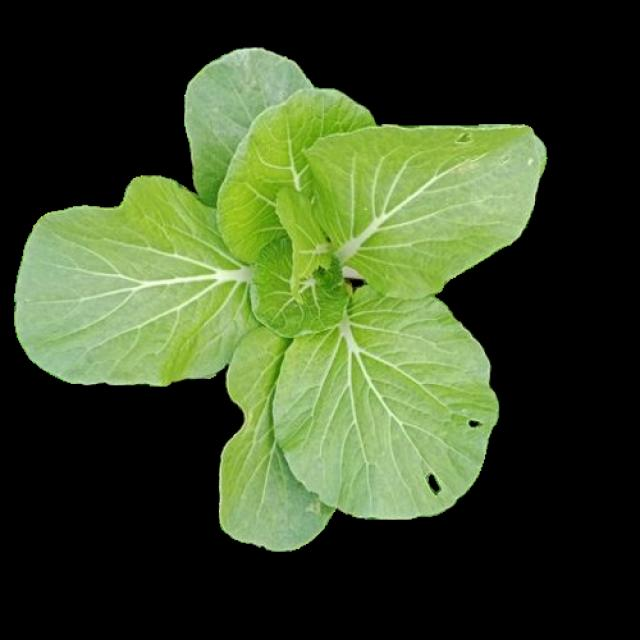mature: (14, 49, 544, 549)
unhealthy: (274, 292, 500, 514), (309, 124, 535, 298)
